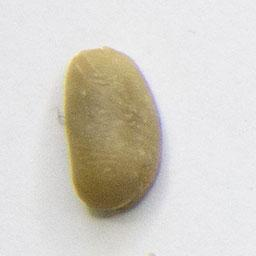longberry: (60, 41, 167, 216)
